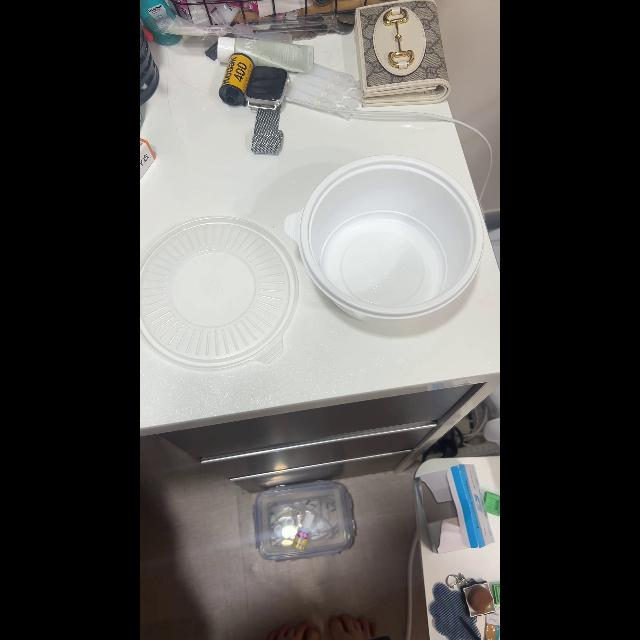clean: (304, 164, 486, 333), (140, 213, 298, 371)
